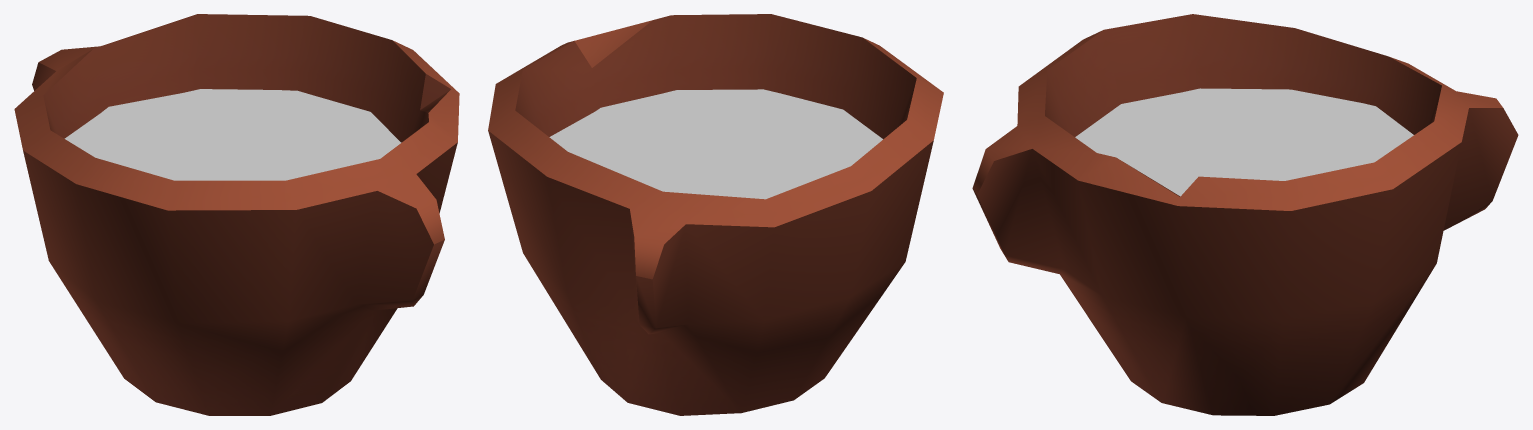
Rendered from Clay_Dish_2D.fbx.
The picture shows the model from 3 angles, left to right: view 1: azimuth 30°, elevation 25°; view 2: azimuth 150°, elevation 25°; view 3: azimuth 270°, elevation 25°; orthographic projection.
Parts seen in each view (by area): view 1: Clay_Dish_2D; view 2: Clay_Dish_2D; view 3: Clay_Dish_2D.
Boxes of the visible parts, <box> form: Clay_Dish_2D: <box>14,14,459,415</box>; Clay_Dish_2D: <box>488,14,943,415</box>; Clay_Dish_2D: <box>972,14,1518,415</box>.
Size of the model in its own units: 0.9353 by 0.626 by 1.13.
